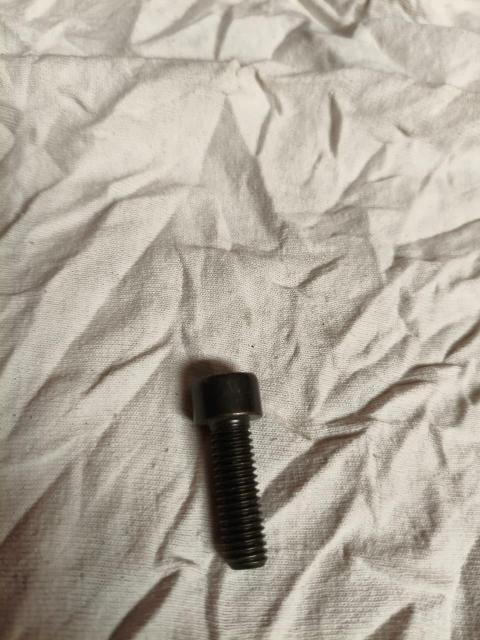Metal: (182, 365, 285, 577)
